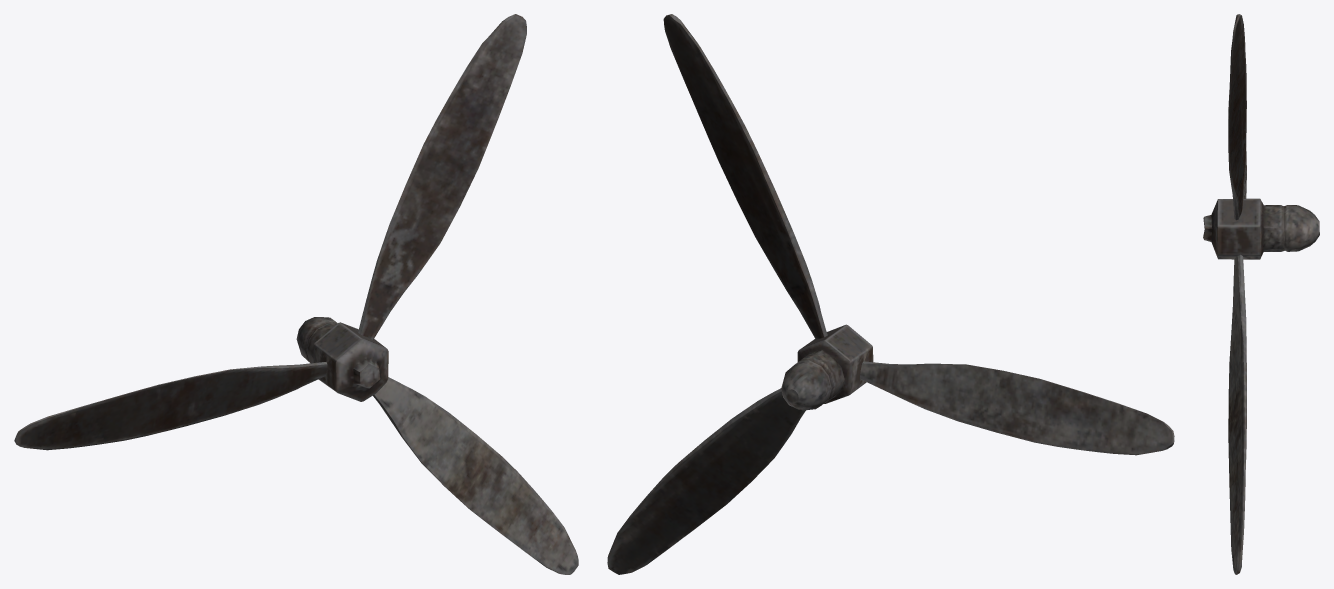
File: plane_wreckage_blades.dae
3 views of the same model, side by side, from view 1: azimuth 30°, elevation 25°; view 2: azimuth 150°, elevation 25°; view 3: azimuth 270°, elevation 25° (orthographic). The views are drawn at different scales.
Visible parts, largest first — view 1: a, d, s, base; view 2: s, d, a, base; view 3: base, d, a.
Boxes of the visible parts, bbox=[...] form: a: bbox=[358, 14, 526, 339]; d: bbox=[373, 377, 578, 574]; s: bbox=[14, 362, 327, 450]; base: bbox=[296, 317, 388, 401]; s: bbox=[860, 361, 1174, 455]; d: bbox=[607, 388, 805, 574]; a: bbox=[663, 14, 827, 339]; base: bbox=[781, 324, 873, 410]; base: bbox=[1203, 198, 1319, 259]; d: bbox=[1228, 254, 1246, 574]; a: bbox=[1228, 14, 1246, 220].
Size of the model in its own units: 410 by 398 by 78.84.
